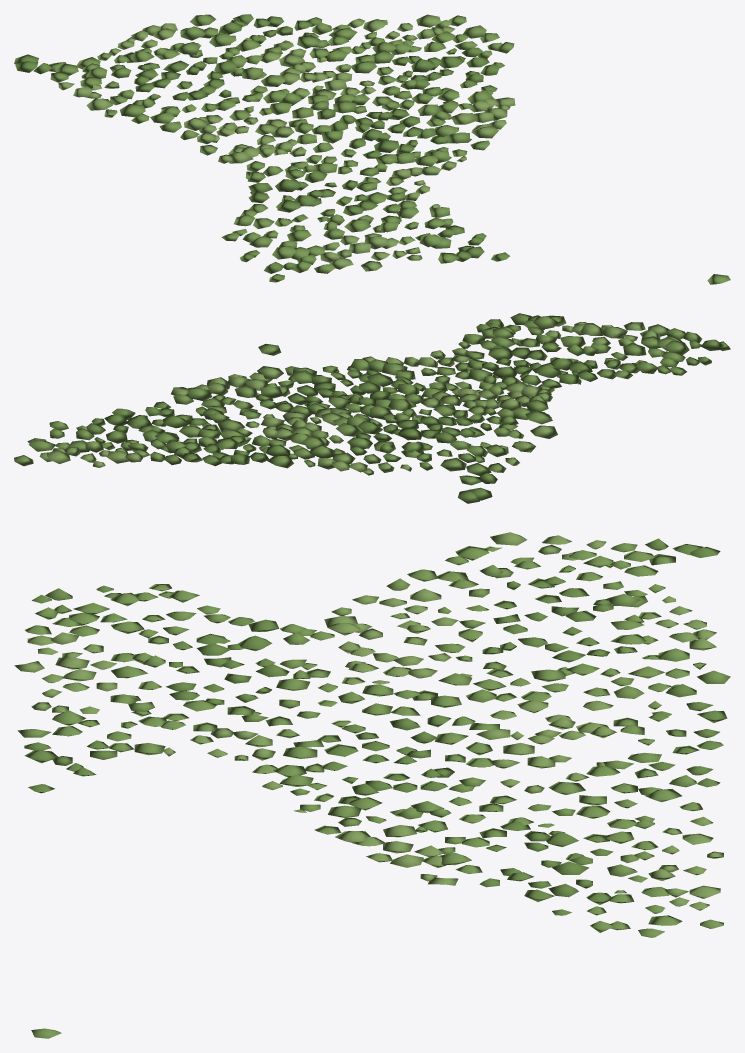
File: canopy-1--6-0.glb
The picture shows the model from 3 angles, top to bottom: view 1: azimuth 30°, elevation 25°; view 2: azimuth 150°, elevation 25°; view 3: azimuth 270°, elevation 25°; orthographic projection. The views are drawn at different scales.
Size of the model in its own units: 522 by 175 by 520.
Materials: 1 (1 with a texture image).
